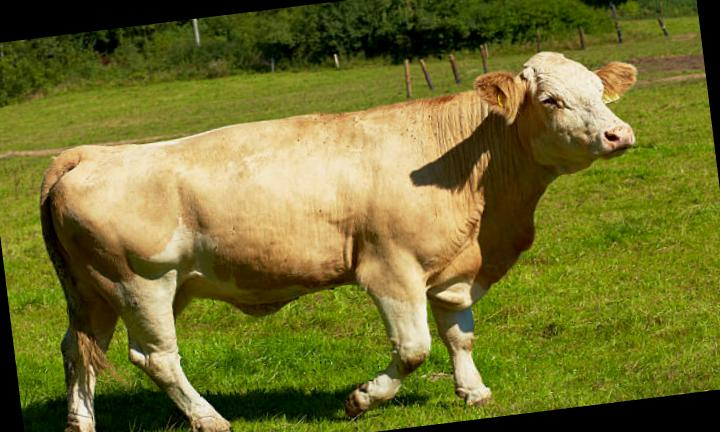Charolais: (41, 52, 634, 432)
